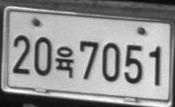0: (101, 41, 121, 82), (33, 35, 52, 76)
1: (146, 45, 168, 86)
2: (12, 34, 30, 75)
5: (123, 44, 143, 84)
7: (78, 40, 99, 79)
육: (54, 45, 73, 78)
